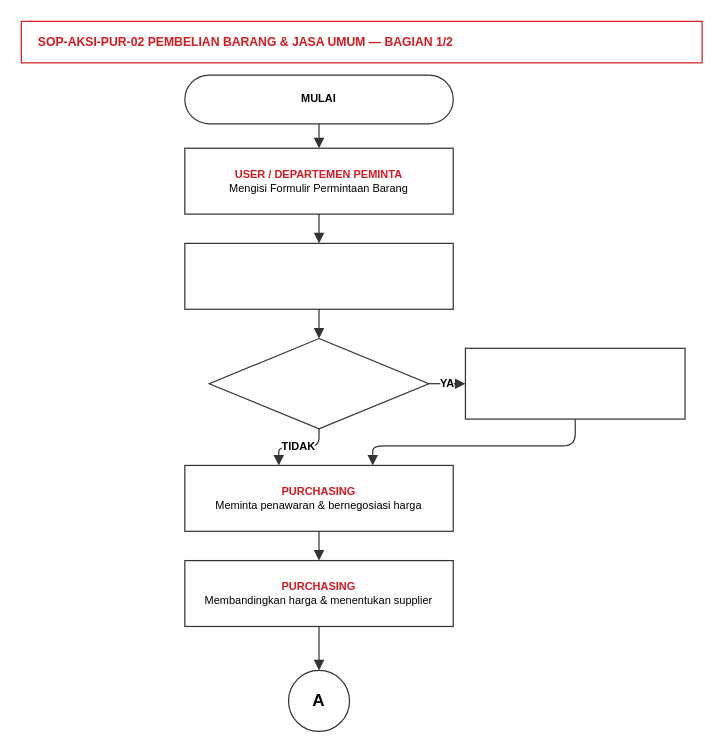
Some shapes in this 723 by 753 pixel diagram are drawn without their labels. Here are the shapes that lost their labels. From the top down, the box of each, then its label:
(184, 242, 453, 309): PURCHASING Menerima & memverifikasi kelengkapan formulir
(208, 337, 429, 429): Pembelian peralatan kontak produk?
(464, 347, 685, 419): FOREMAN QA Memberi persetujuan teknis desain higienis
